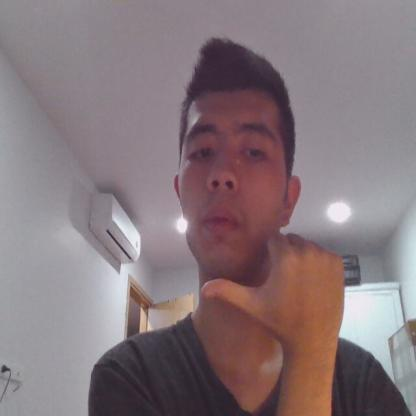right: (202, 234, 348, 347)
